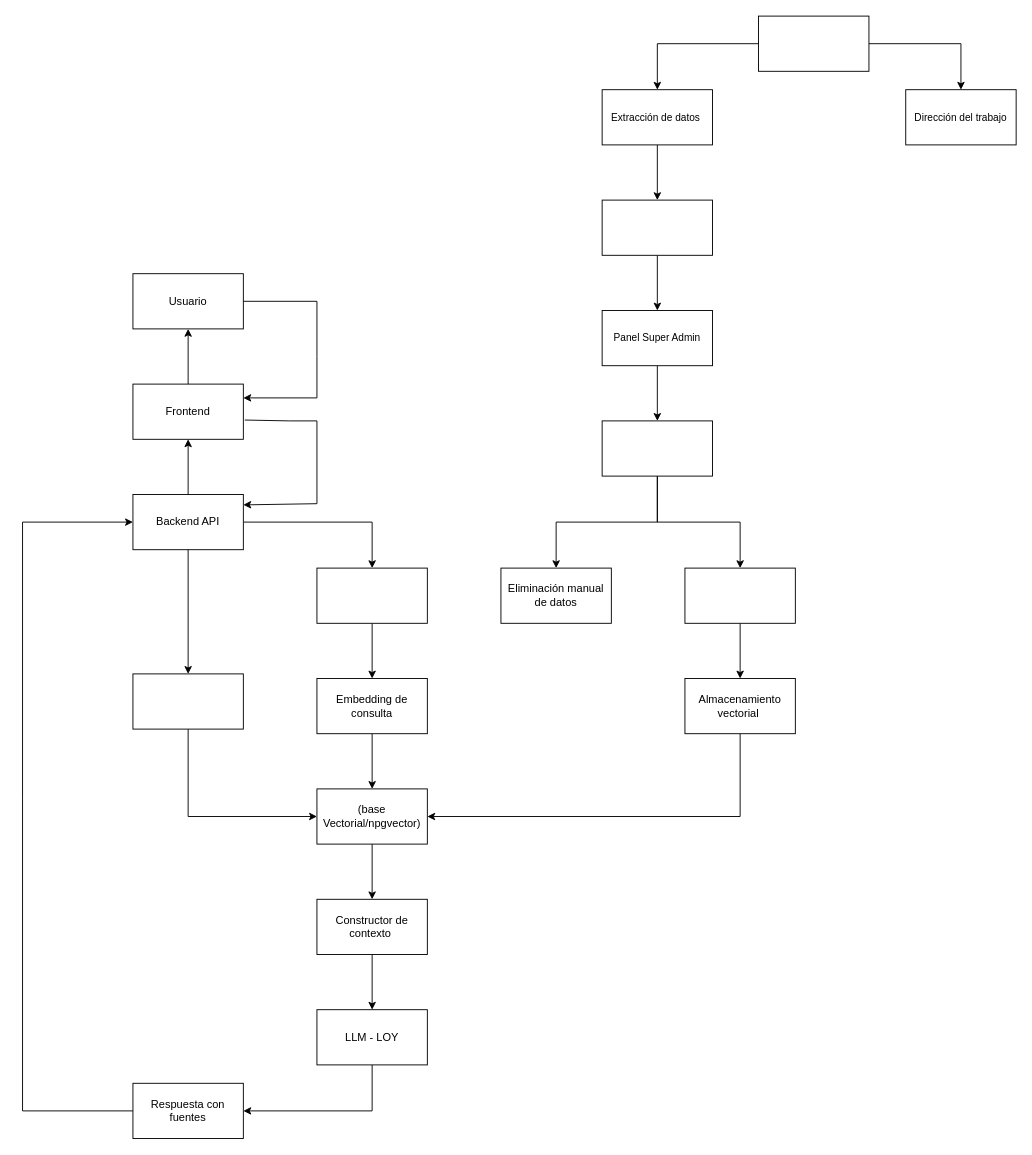
The diagram is 1032 pixels wide and 1155 high, and some of its shapes have lost their labels. The box of each missing label's shape, as (x1, y1, x2, y2) in pixels:
Consulta: (316, 567, 427, 623)
gatekeeper: (601, 420, 713, 476)
Generacion de embeddings: (684, 567, 795, 623)
Procesamiento y limpieza: (601, 199, 713, 255)
Recuperación semántica: (132, 673, 243, 729)
Web Spider: (758, 15, 869, 71)
